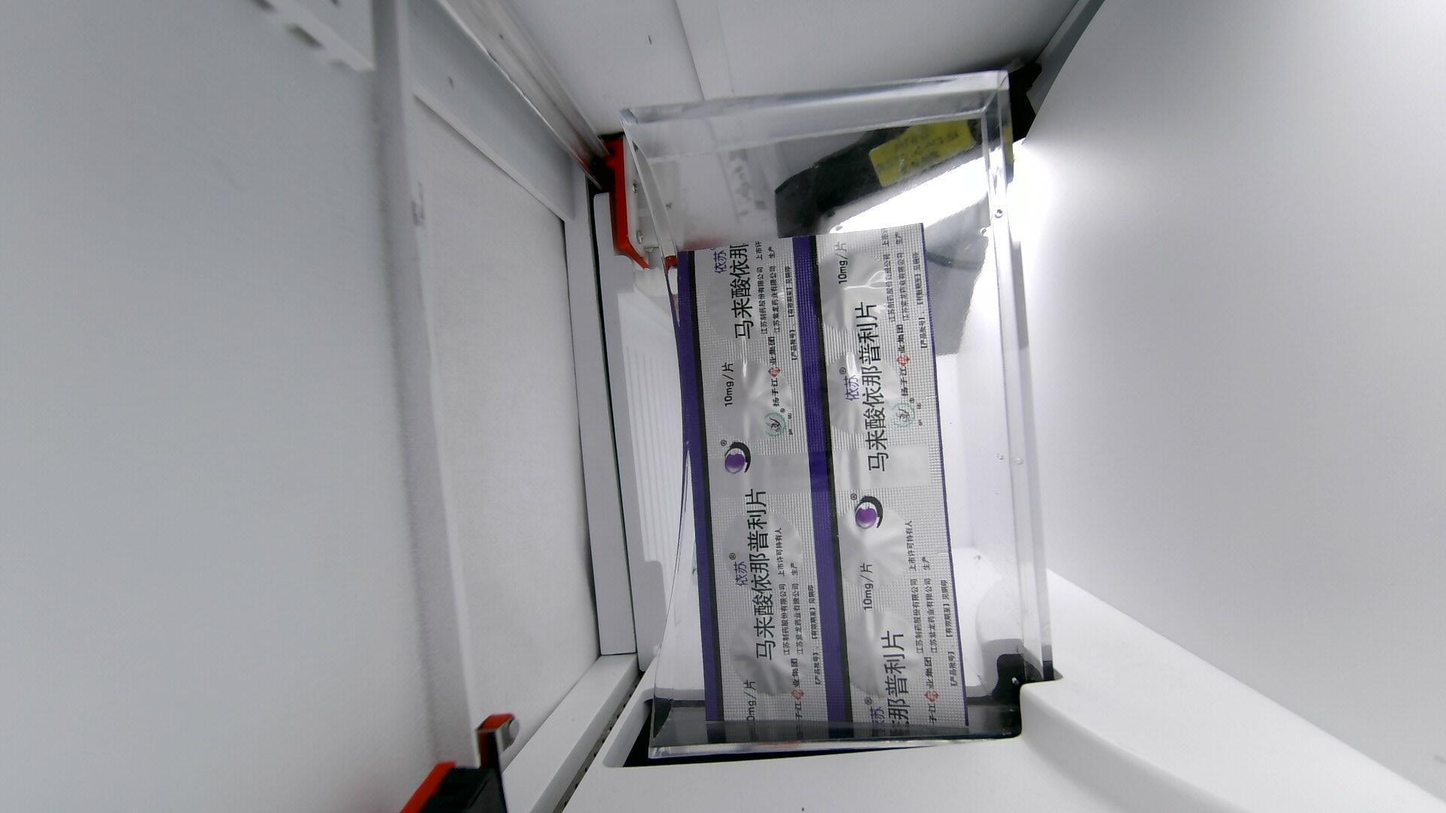Pill Back: (813, 243, 896, 339), (818, 353, 902, 440), (844, 609, 921, 701), (734, 614, 820, 696), (828, 507, 908, 595), (713, 364, 794, 443), (720, 513, 804, 584), (709, 261, 784, 338)
